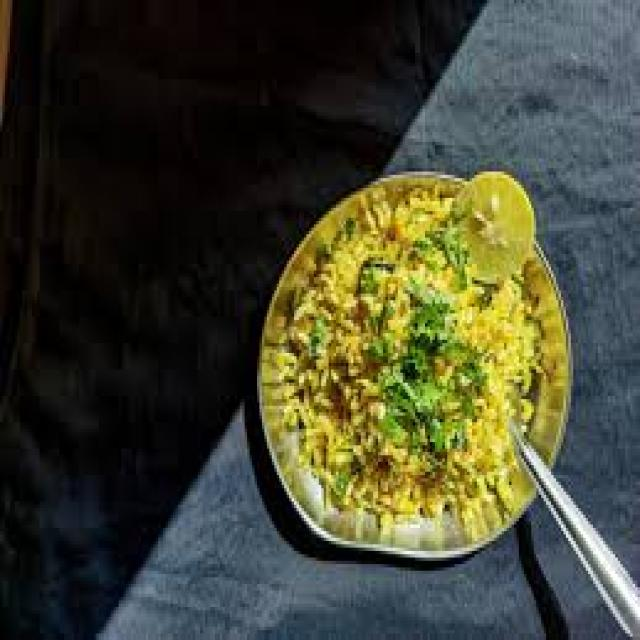POHA: (262, 175, 561, 538)
